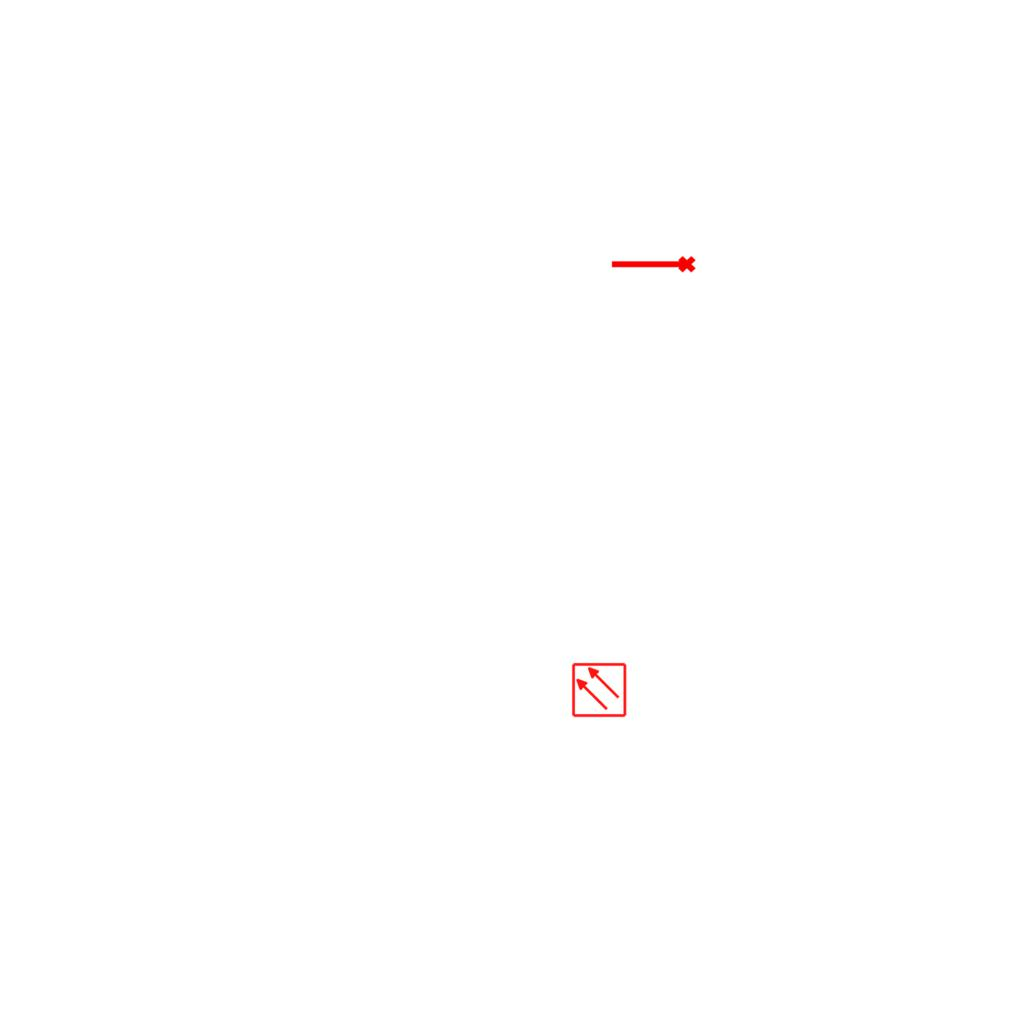ASR_Ansaugoeffnung: (609, 254, 697, 277)
RMO_Rauchmelder_optischer: (571, 662, 627, 718)
